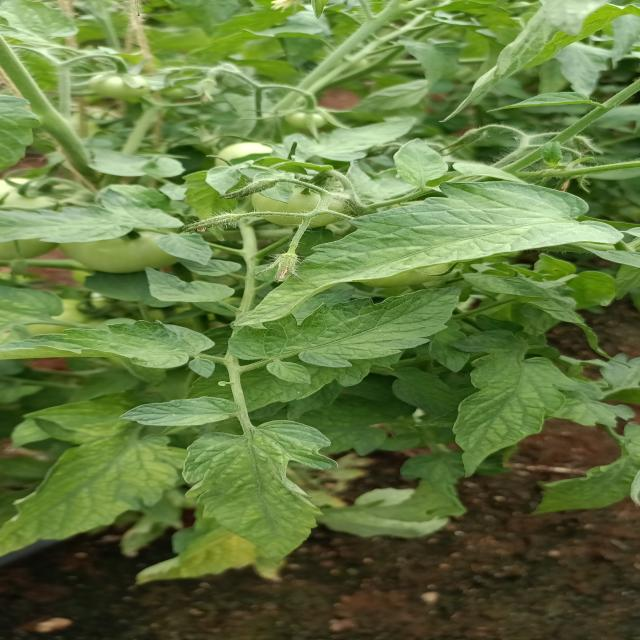Healthy Leaf: (225, 177, 607, 317), (180, 422, 358, 579), (226, 284, 477, 379), (445, 354, 570, 486), (30, 314, 225, 374), (96, 394, 290, 428), (367, 135, 466, 185)
